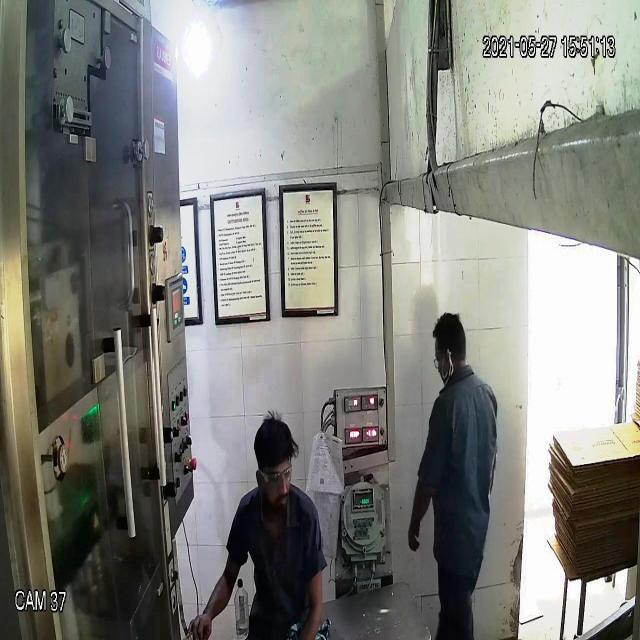glasses: (249, 453, 295, 492)
